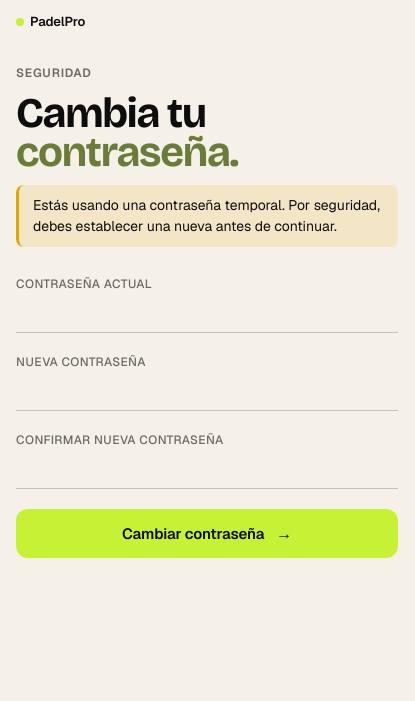
Test case: ChangePasswordPage › shows a policy error on 400 INVALID_PASSWORD
The width and height of the screenshot is (415, 701).
Type "Temp1234" into the password field labelled "Contraseña actual" at (207, 315), box top-left (16, 297), bottom-right (398, 333)
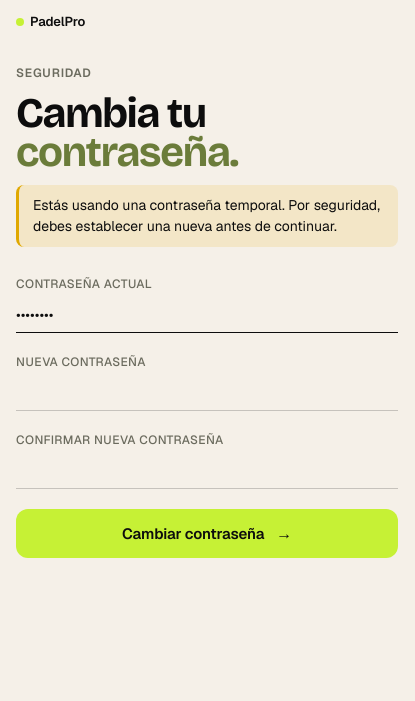
Type "short" into the password field labelled "Nueva contraseña" at (207, 393), box top-left (16, 375), bottom-right (398, 411)
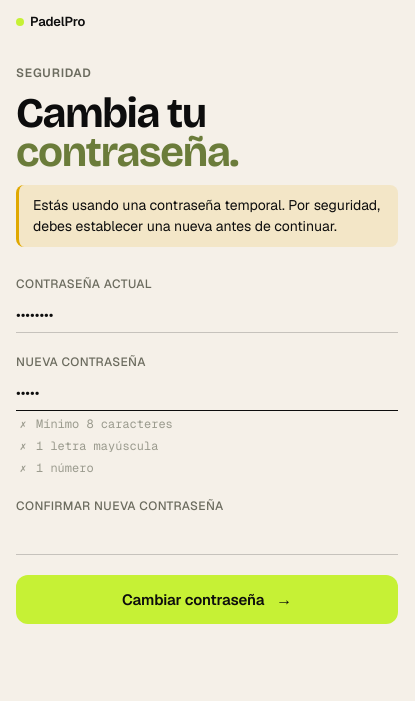
Type "short" into the password field labelled "Confirmar nueva contraseña" at (207, 537), box top-left (16, 519), bottom-right (398, 555)
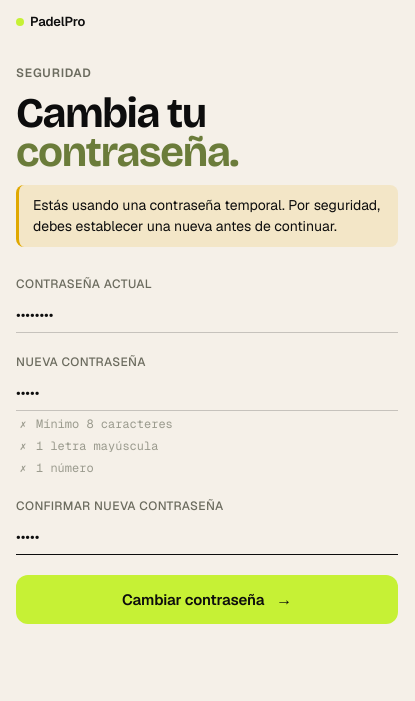
Click the button "Cambiar contraseña →" at (207, 600), box top-left (16, 575), bottom-right (398, 624)
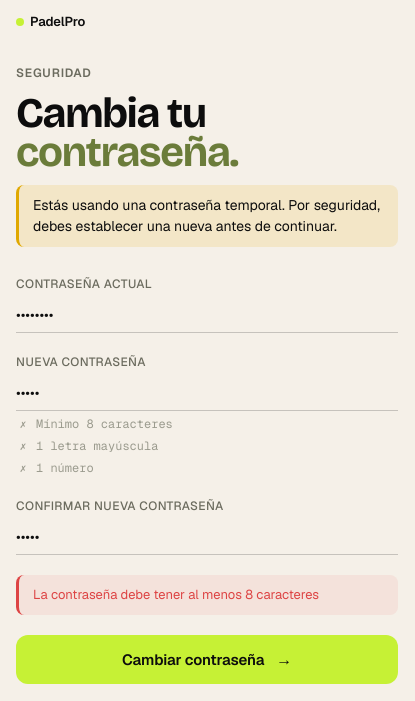
Expected: the message reads "La contraseña debe tener al menos 8 caracteres", top-left (33, 586), bottom-right (319, 603)
